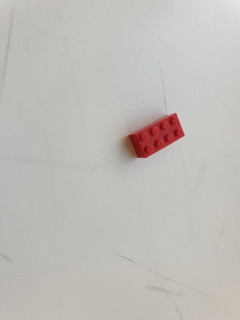2x4 red: (128, 113, 186, 159)
